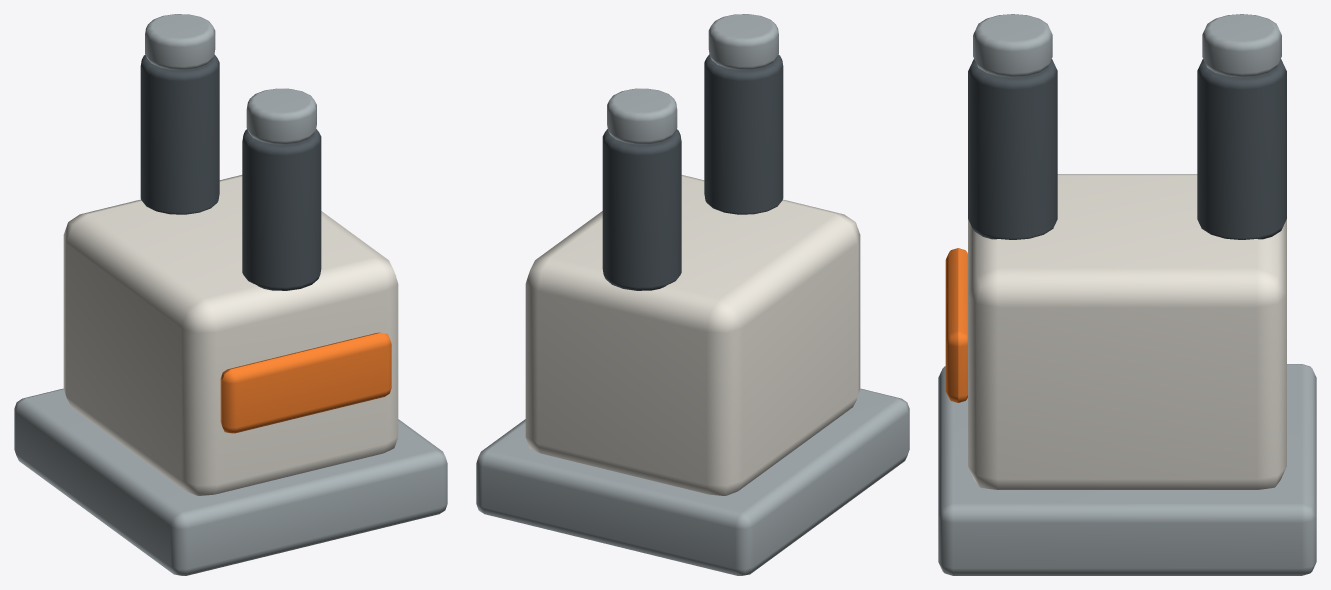
Rendered from SM_PowerCableTerminal.fbx.
The picture shows the model from 3 angles, left to right: view 1: azimuth 30°, elevation 25°; view 2: azimuth 150°, elevation 25°; view 3: azimuth 270°, elevation 25°; orthographic projection. The views are drawn at different scales.
Visible parts, largest first — view 1: SM_PowerCableTerminal; view 2: SM_PowerCableTerminal; view 3: SM_PowerCableTerminal.
Boxes of the visible parts, bbox=[...] form: SM_PowerCableTerminal: bbox=[14, 14, 447, 575]; SM_PowerCableTerminal: bbox=[476, 14, 909, 575]; SM_PowerCableTerminal: bbox=[938, 14, 1316, 575].
Bounding box in the file's own units: 36 × 38 × 53.
